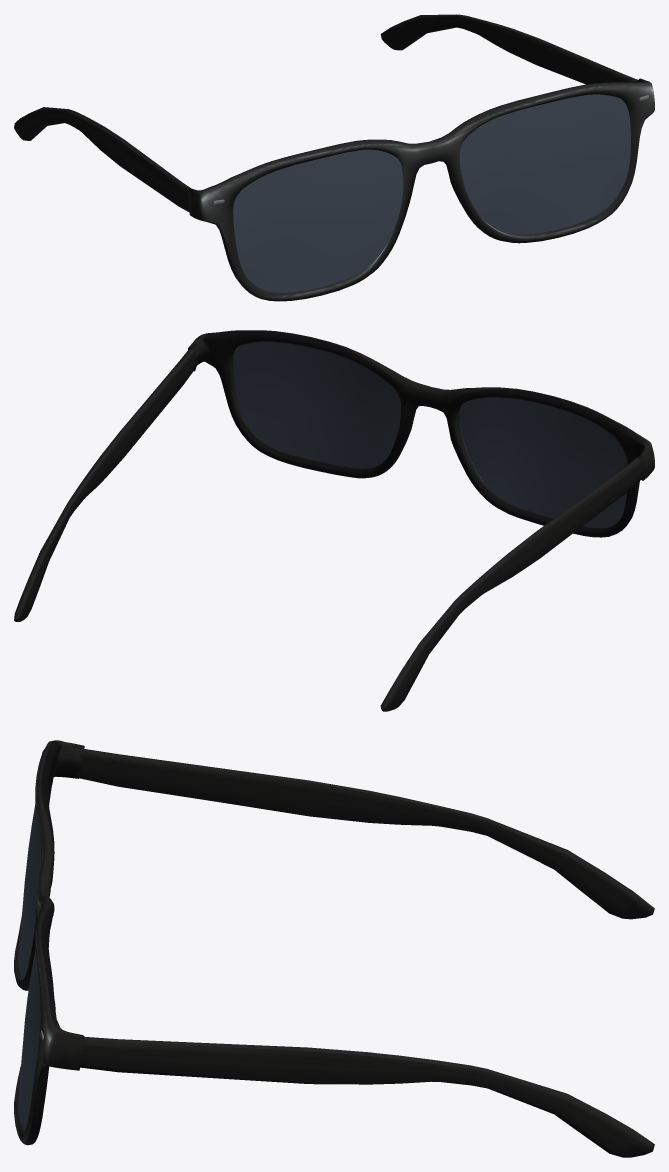
File: WayfarerSunglasses.fbx
3 renders of one model, top to bottom at view 1: azimuth 30°, elevation 25°; view 2: azimuth 150°, elevation 25°; view 3: azimuth 270°, elevation 25°, orthographic. The views are drawn at different scales.
Parts seen in each view (by area): view 1: polySurface9; view 2: polySurface9; view 3: polySurface9.
Boxes of the visible parts, <box> form: polySurface9: <box>14,14,654,301</box>; polySurface9: <box>14,330,654,711</box>; polySurface9: <box>14,740,654,1157</box>.
Bounding box in the file's own units: 9.35 × 2.71 × 8.6.
Materials: 1 (1 with a texture image).
